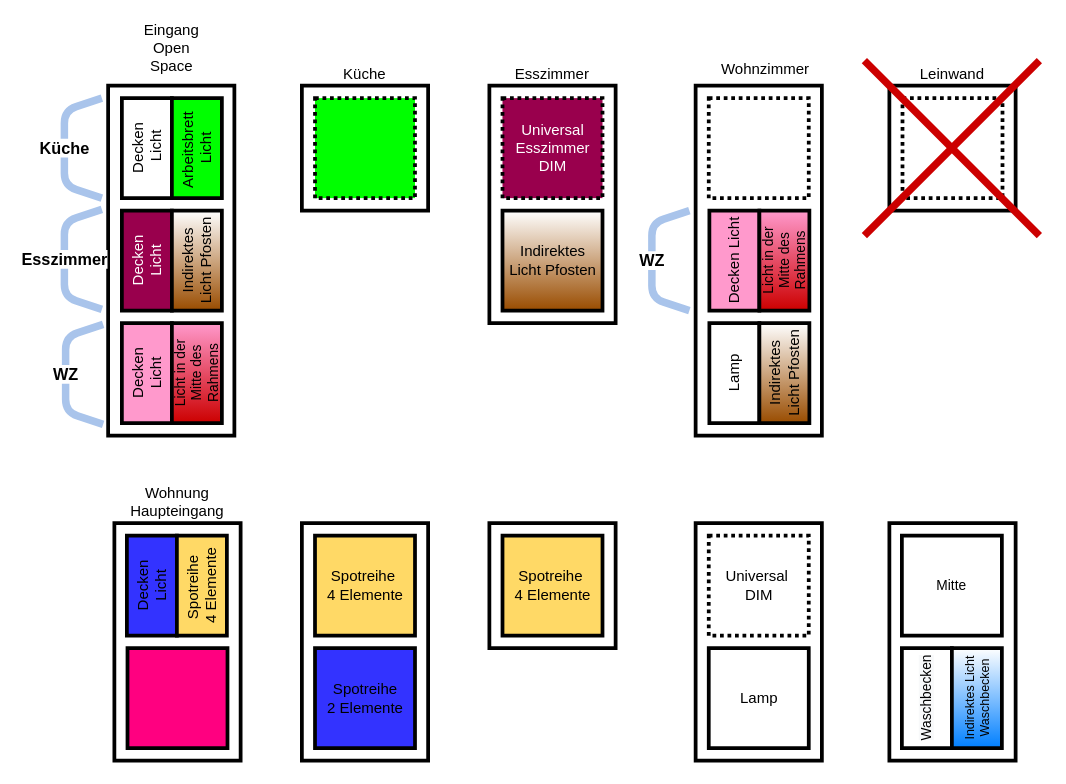
This 1066x784 diagram has some shape labels left out. Here are the shapes that lost their labels. From the top down, the box of each, then its label:
(312, 96, 416, 199): Universal Küche - DIM (Spotreihe)
(706, 96, 810, 199): Universal Wohnzimmer Spot - DIM
(900, 96, 1004, 199): Universal DIM (Leinwand)
(487, 521, 617, 649): Flur
(299, 521, 429, 762): Flur Ausgang Openspace
(693, 521, 823, 762): Kinderzimmer 1 & 2
(887, 521, 1017, 762): Bad
(125, 646, 229, 749): Treppe
